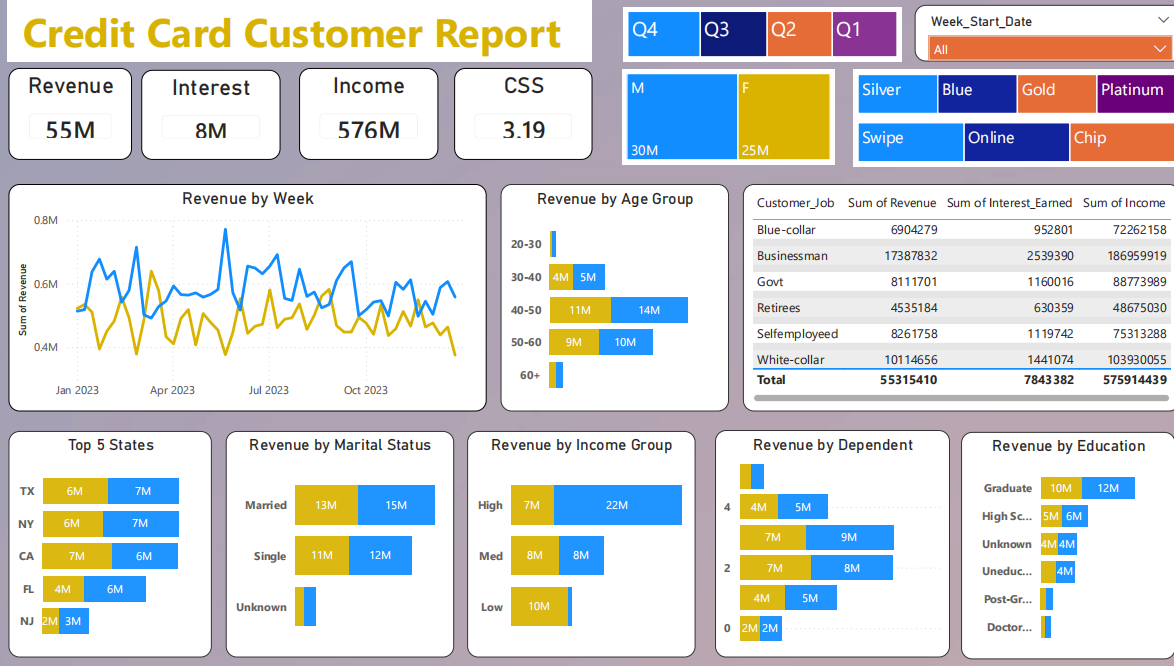

This screenshot's page, from the dashboard's own definition file:
{"tool":"powerbi","page":{"name":"CC Customer","canvas":[1280,720],"ordinal":1},"visuals":[{"type":"textbox","box":[9.5,0,629.9,66.8],"z":0},{"type":"treemap","fields":{"Group":["credit_card.Qtr"],"Values":["Avg(credit_card.Client_Num)"]},"box":[672.8,8,300.6,58.9],"z":1000},{"type":"slicer","fields":{"Values":["credit_card.Week_Start_Date"]},"box":[987.3,6.4,292.7,60.4],"z":2000},{"type":"treemap","fields":{"Group":["credit_card.Card_Category"],"Values":["Avg(credit_card.Client_Num)"]},"box":[921.3,76.1,351.4,51.8],"z":3000},{"type":"cardVisual","title":"CSS","fields":{"Data":["Avg(customer.Cust_Satisfaction_Score)"]},"box":[490.6,74.5,149,98.8],"z":4000},{"type":"cardVisual","title":"Income","fields":{"Data":["Sum(customer.Income)"]},"box":[323.8,74.5,150.6,98.8],"z":5000},{"type":"cardVisual","title":"Interest","fields":{"Data":["Sum(credit_card.Interest_Earned)"]},"box":[153.8,76.1,150.6,97.2],"z":6000},{"type":"cardVisual","title":"Revenue","fields":{"Data":["Sum(credit_card.Revenue)"]},"box":[11.3,74.5,132.8,98.8],"z":7000},{"type":"tableEx","fields":{"Values":["customer.Customer_Job","Sum(credit_card.Revenue)","Sum(credit_card.Interest_Earned)","Sum(customer.Income)"]},"box":[801.5,199.2,471.2,244.5],"z":8000},{"type":"barChart","title":"Revenue by Income Group","fields":{"Category":["customer.IncomeGroup"],"Y":["Sum(credit_card.Revenue)"],"Series":["customer.Gender"]},"box":[505.2,464.7,246.1,244.5],"z":9000},{"type":"lineChart","title":" Revenue by Week","fields":{"Y":["Sum(credit_card.Revenue)"],"Series":["customer.Gender"],"Category":["credit_card.Week_Start_Date.Variation.Date Hierarchy.Year","credit_card.Week_Start_Date.Variation.Date Hierarchy.Month","credit_card.Week_Start_Date.Variation.Date Hierarchy.Day"]},"box":[11.3,199.2,514.9,244.5],"z":10000},{"type":"treemap","fields":{"Group":["customer.Gender"],"Values":["Sum(credit_card.Revenue)"]},"box":[672.4,74.9,228.9,103.3],"z":11000},{"type":"barChart","title":"Revenue by Age Group","fields":{"Category":["customer.AgeGroup"],"Y":["Sum(credit_card.Revenue)"],"Series":["customer.Gender"]},"box":[540.8,199.2,246.1,244.5],"z":12000},{"type":"barChart","title":"Revenue by Dependent","fields":{"Category":["customer.Dependent_Count"],"Y":["Sum(credit_card.Revenue)"],"Series":["customer.Gender"]},"box":[771.6,463.8,253.2,245.1],"z":13000},{"type":"barChart","title":"Revenue by Education","fields":{"Category":["customer.Education_Level"],"Y":["Sum(credit_card.Revenue)"],"Series":["customer.Gender"]},"box":[1037,465.8,230.9,245.1],"z":14000},{"type":"barChart","title":"Top 5 States","fields":{"Category":["customer.state_cd"],"Y":["Sum(credit_card.Revenue)"],"Series":["customer.Gender"]},"box":[11.3,464.7,218.6,244.5],"z":15000},{"type":"barChart","title":"Revenue by Marital Status","fields":{"Category":["customer.Marital_Status"],"Y":["Sum(credit_card.Revenue)"],"Series":["customer.Gender"]},"box":[244.5,464.7,246.1,244.5],"z":16000},{"type":"treemap","fields":{"Group":["credit_card.Use Chip"],"Values":["Avg(credit_card.Client_Num)"]},"box":[921.3,127.9,351.4,51.8],"z":17000}]}

Visuals, with their boxes in screenshot pixels (x1, y1, x2, y2), scaled from the page's 1280x720 canvas onto the 1174x666 screenshot:
textbox: <bbox>9, 0, 586, 62</bbox>
treemap - credit_card.Qtr x Avg(credit_card.Client_Num): <bbox>617, 7, 893, 62</bbox>
slicer - credit_card.Week_Start_Date: <bbox>906, 6, 1173, 62</bbox>
treemap - credit_card.Card_Category x Avg(credit_card.Client_Num): <bbox>845, 70, 1167, 118</bbox>
"CSS" cardVisual: <bbox>450, 69, 587, 160</bbox>
"Income" cardVisual: <bbox>297, 69, 435, 160</bbox>
"Interest" cardVisual: <bbox>141, 70, 279, 160</bbox>
"Revenue" cardVisual: <bbox>10, 69, 132, 160</bbox>
tableEx - customer.Customer_Job x Sum(credit_card.Revenue): <bbox>735, 184, 1167, 410</bbox>
"Revenue by Income Group" barChart: <bbox>463, 430, 689, 656</bbox>
" Revenue by Week" lineChart: <bbox>10, 184, 483, 410</bbox>
treemap - customer.Gender x Sum(credit_card.Revenue): <bbox>617, 69, 827, 165</bbox>
"Revenue by Age Group" barChart: <bbox>496, 184, 722, 410</bbox>
"Revenue by Dependent" barChart: <bbox>708, 429, 940, 656</bbox>
"Revenue by Education" barChart: <bbox>951, 431, 1163, 658</bbox>
"Top 5 States" barChart: <bbox>10, 430, 211, 656</bbox>
"Revenue by Marital Status" barChart: <bbox>224, 430, 450, 656</bbox>
treemap - credit_card.Use Chip x Avg(credit_card.Client_Num): <bbox>845, 118, 1167, 166</bbox>
